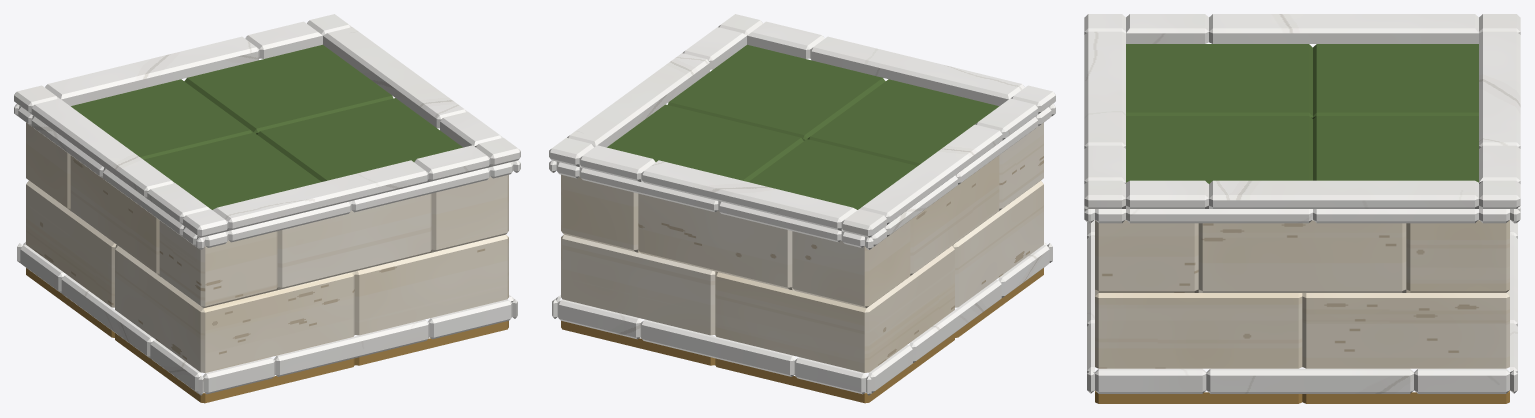
The picture shows the model from 3 angles, left to right: view 1: azimuth 30°, elevation 25°; view 2: azimuth 150°, elevation 25°; view 3: azimuth 270°, elevation 25°; orthographic projection. The views are drawn at different scales.
Parts seen in each view (by area): view 1: Mesh_planter_sq; view 2: Mesh_planter_sq; view 3: Mesh_planter_sq.
Part boxes in pixels (box(x1,y1,x2,y2)): Mesh_planter_sq: box(14, 14, 520, 403); Mesh_planter_sq: box(549, 14, 1055, 403); Mesh_planter_sq: box(1084, 14, 1520, 403).
Size of the model in its own units: 1.68 by 0.9 by 1.68.
Materials: 1 (1 with a texture image).
